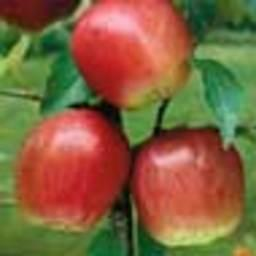apple: (69, 2, 193, 114), (133, 124, 244, 248), (14, 114, 131, 230)
